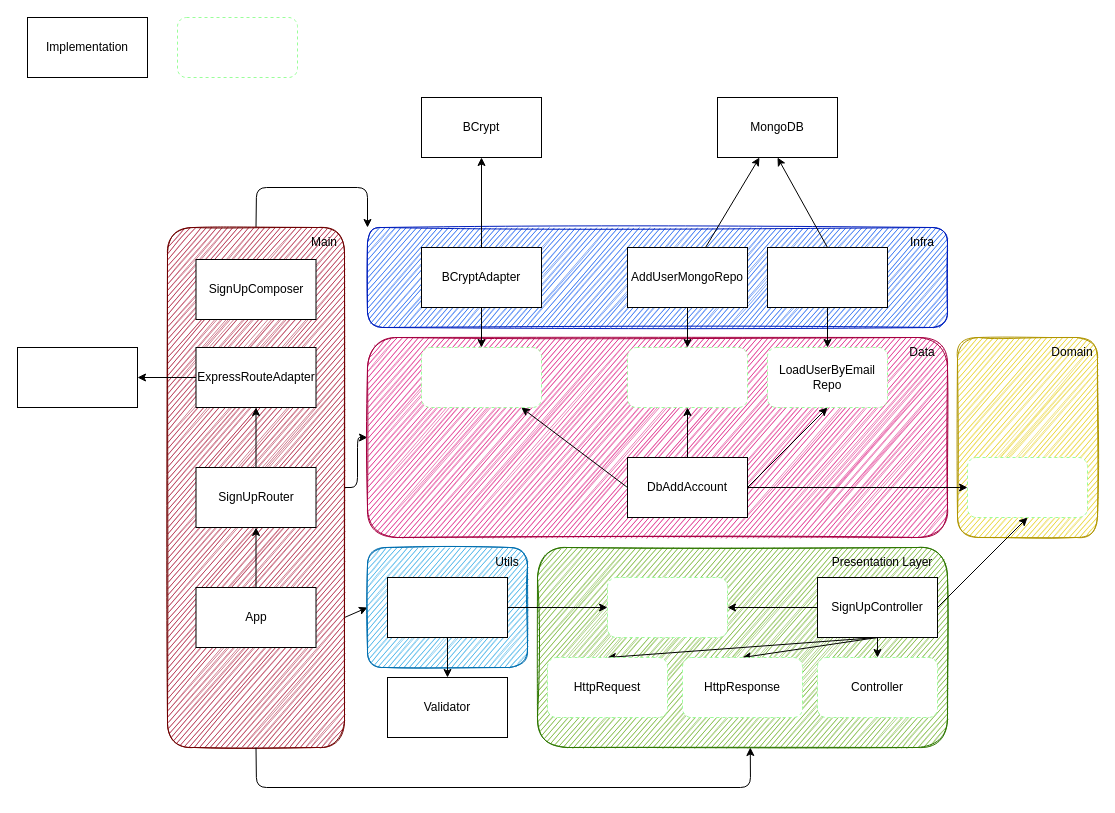
This 1115x813 diagram has some shape labels left out. Each missing label, with the box of its shape:
AddAccount: (966, 456, 1088, 518)
AddUserRepo: (626, 346, 748, 408)
EmailValidator: (606, 576, 728, 638)
EmailValidatorAdapter: (386, 576, 508, 638)
Enprypter: (420, 346, 542, 408)
Express: (16, 346, 138, 408)
interface: (176, 16, 298, 78)
LoadUserByEmail MongoRepo: (766, 246, 888, 308)
